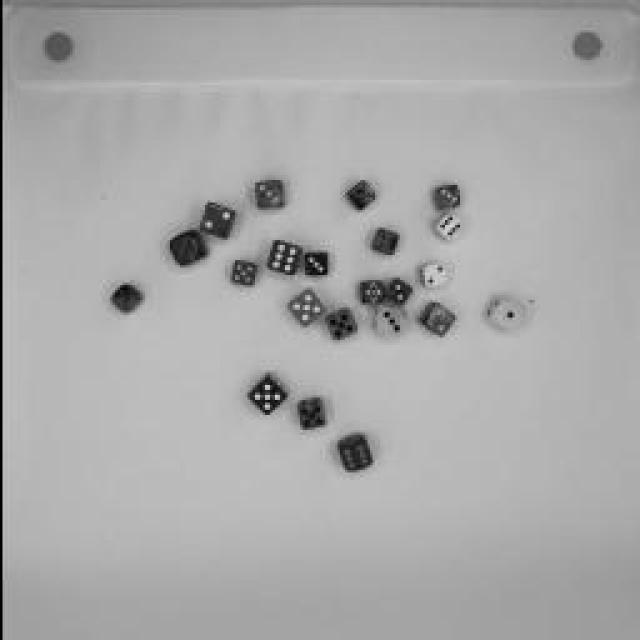dice_1: (475, 289, 527, 331)
dice_2: (417, 299, 465, 339), (199, 198, 241, 242), (381, 272, 421, 308), (415, 259, 447, 289)
dice_3: (248, 175, 292, 217), (415, 178, 465, 210), (100, 279, 140, 316), (370, 305, 412, 340), (301, 246, 341, 282)
dice_4: (362, 228, 410, 262)
dice_5: (230, 362, 292, 420), (272, 283, 330, 325), (322, 303, 362, 345), (163, 226, 205, 266), (224, 254, 261, 291), (295, 389, 327, 431), (339, 178, 381, 208)
dice_6: (330, 431, 375, 479), (265, 234, 297, 278), (425, 214, 470, 244), (358, 274, 388, 306)
